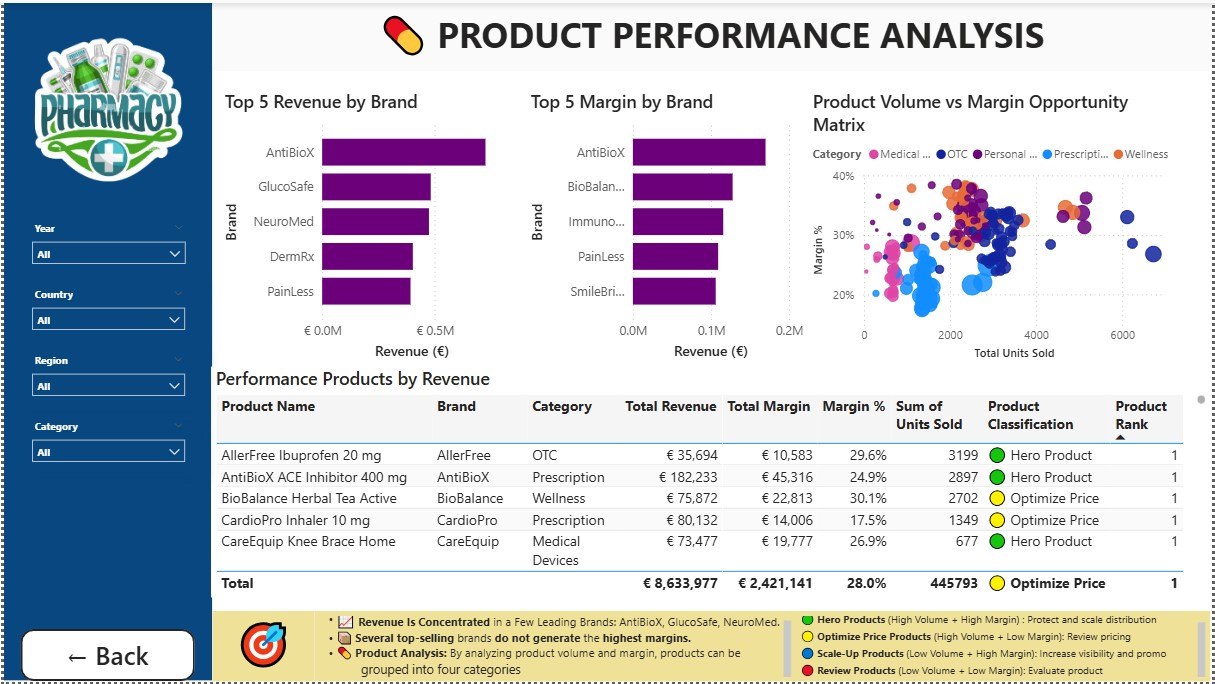

The page's visual inventory and layout, read from the dashboard file:
{"tool":"powerbi","page":{"name":"Product","canvas":[1280,720],"ordinal":2},"visuals":[{"type":"textbox","box":[10,199,220,150],"z":0},{"type":"textbox","box":[0,0,220.7,719.6],"z":1000},{"type":"image","box":[0,0,220.7,238.8],"z":2000},{"type":"clusteredBarChart","title":"Top 5 Revenue by Brand","fields":{"Y":["_Measures.Total Revenue"],"Category":["Sheet1.Brand"]},"box":[228.8,91.5,324.7,292],"z":3000},{"type":"tableEx","title":"Performance Products by Revenue","fields":{"Values":["Sheet1.ProductName","Sheet1.Brand","Sheet1.Category","_Measures.Total Revenue","_Measures.Total Margin","_Measures.Margin %","Sum(Sheet1.UnitsSold)","_Measures.Product Classification","_Measures.Product Rank"]},"box":[219.5,386.5,1059.3,244.9],"z":4000},{"type":"actionButton","title":"Overview","box":[17.6,665,185,55],"z":5000},{"type":"slicer","fields":{"Values":["Calendar.Year"]},"box":[16.1,223.8,190,70],"z":6000},{"type":"slicer","fields":{"Values":["Sheet1.Country"]},"box":[16.3,293.8,189.6,70],"z":7000},{"type":"slicer","fields":{"Values":["Sheet1.Category"]},"box":[16.3,433.9,189.6,70],"z":8000},{"type":"slicer","fields":{"Values":["Sheet1.Region"]},"box":[16.3,363.9,189.6,70],"z":9000},{"type":"textbox","box":[220.4,3.4,1059.1,70],"z":10000},{"type":"scatterChart","title":"Product Volume vs Margin Opportunity Matrix","fields":{"X":["_Measures.Total Units Sold"],"Y":["_Measures.Margin %"],"Category":["Sheet1.Product Name"],"Size":["_Measures.Total Revenue"],"Series":["Sheet1.Category"]},"box":[852.1,91.5,396.6,292],"z":11000},{"type":"textbox","box":[329.3,645.8,510.6,74.8],"z":12000},{"type":"textbox","box":[221.1,645.2,108.2,74.8],"z":13000},{"type":"clusteredBarChart","title":"Top 5 Margin by Brand","fields":{"Category":["Sheet1.Brand"],"Y":["_Measures.Total Margin"]},"box":[553.6,91.5,298.6,292],"z":14000},{"type":"textbox","box":[839.8,645.8,439,74.8],"z":15000}]}

Visuals, with their boxes in screenshot pixels (x1, y1, x2, y2), scaled from the page's 1280x720 canvas onto the 1215x684 screenshot:
textbox: locate(9, 189, 218, 332)
textbox: locate(0, 0, 209, 683)
image: locate(0, 0, 209, 227)
"Top 5 Revenue by Brand" clusteredBarChart: locate(217, 87, 525, 364)
"Performance Products by Revenue" tableEx: locate(208, 367, 1214, 600)
"Overview" actionButton: locate(17, 632, 192, 683)
slicer - Calendar.Year: locate(15, 213, 196, 279)
slicer - Sheet1.Country: locate(15, 279, 195, 346)
slicer - Sheet1.Category: locate(15, 412, 195, 479)
slicer - Sheet1.Region: locate(15, 346, 195, 412)
textbox: locate(209, 3, 1214, 70)
"Product Volume vs Margin Opportunity Matrix" scatterChart: locate(809, 87, 1185, 364)
textbox: locate(313, 614, 797, 683)
textbox: locate(210, 613, 313, 683)
"Top 5 Margin by Brand" clusteredBarChart: locate(525, 87, 809, 364)
textbox: locate(797, 614, 1214, 683)
